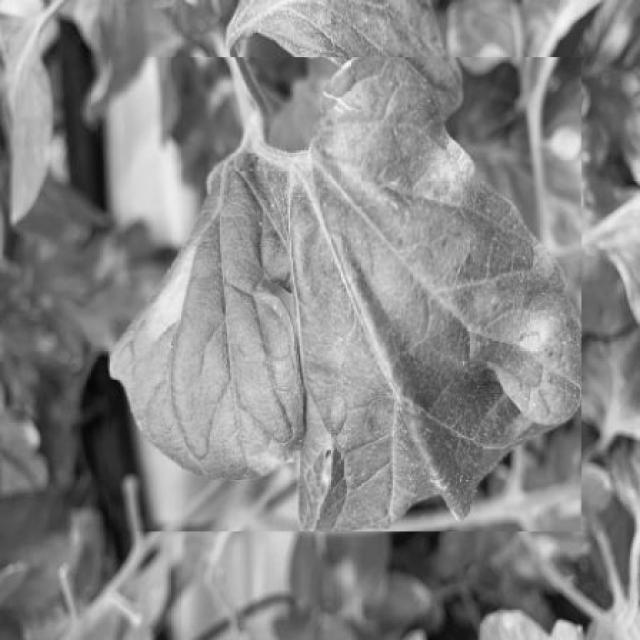Leaf Mold: (109, 57, 582, 532)
